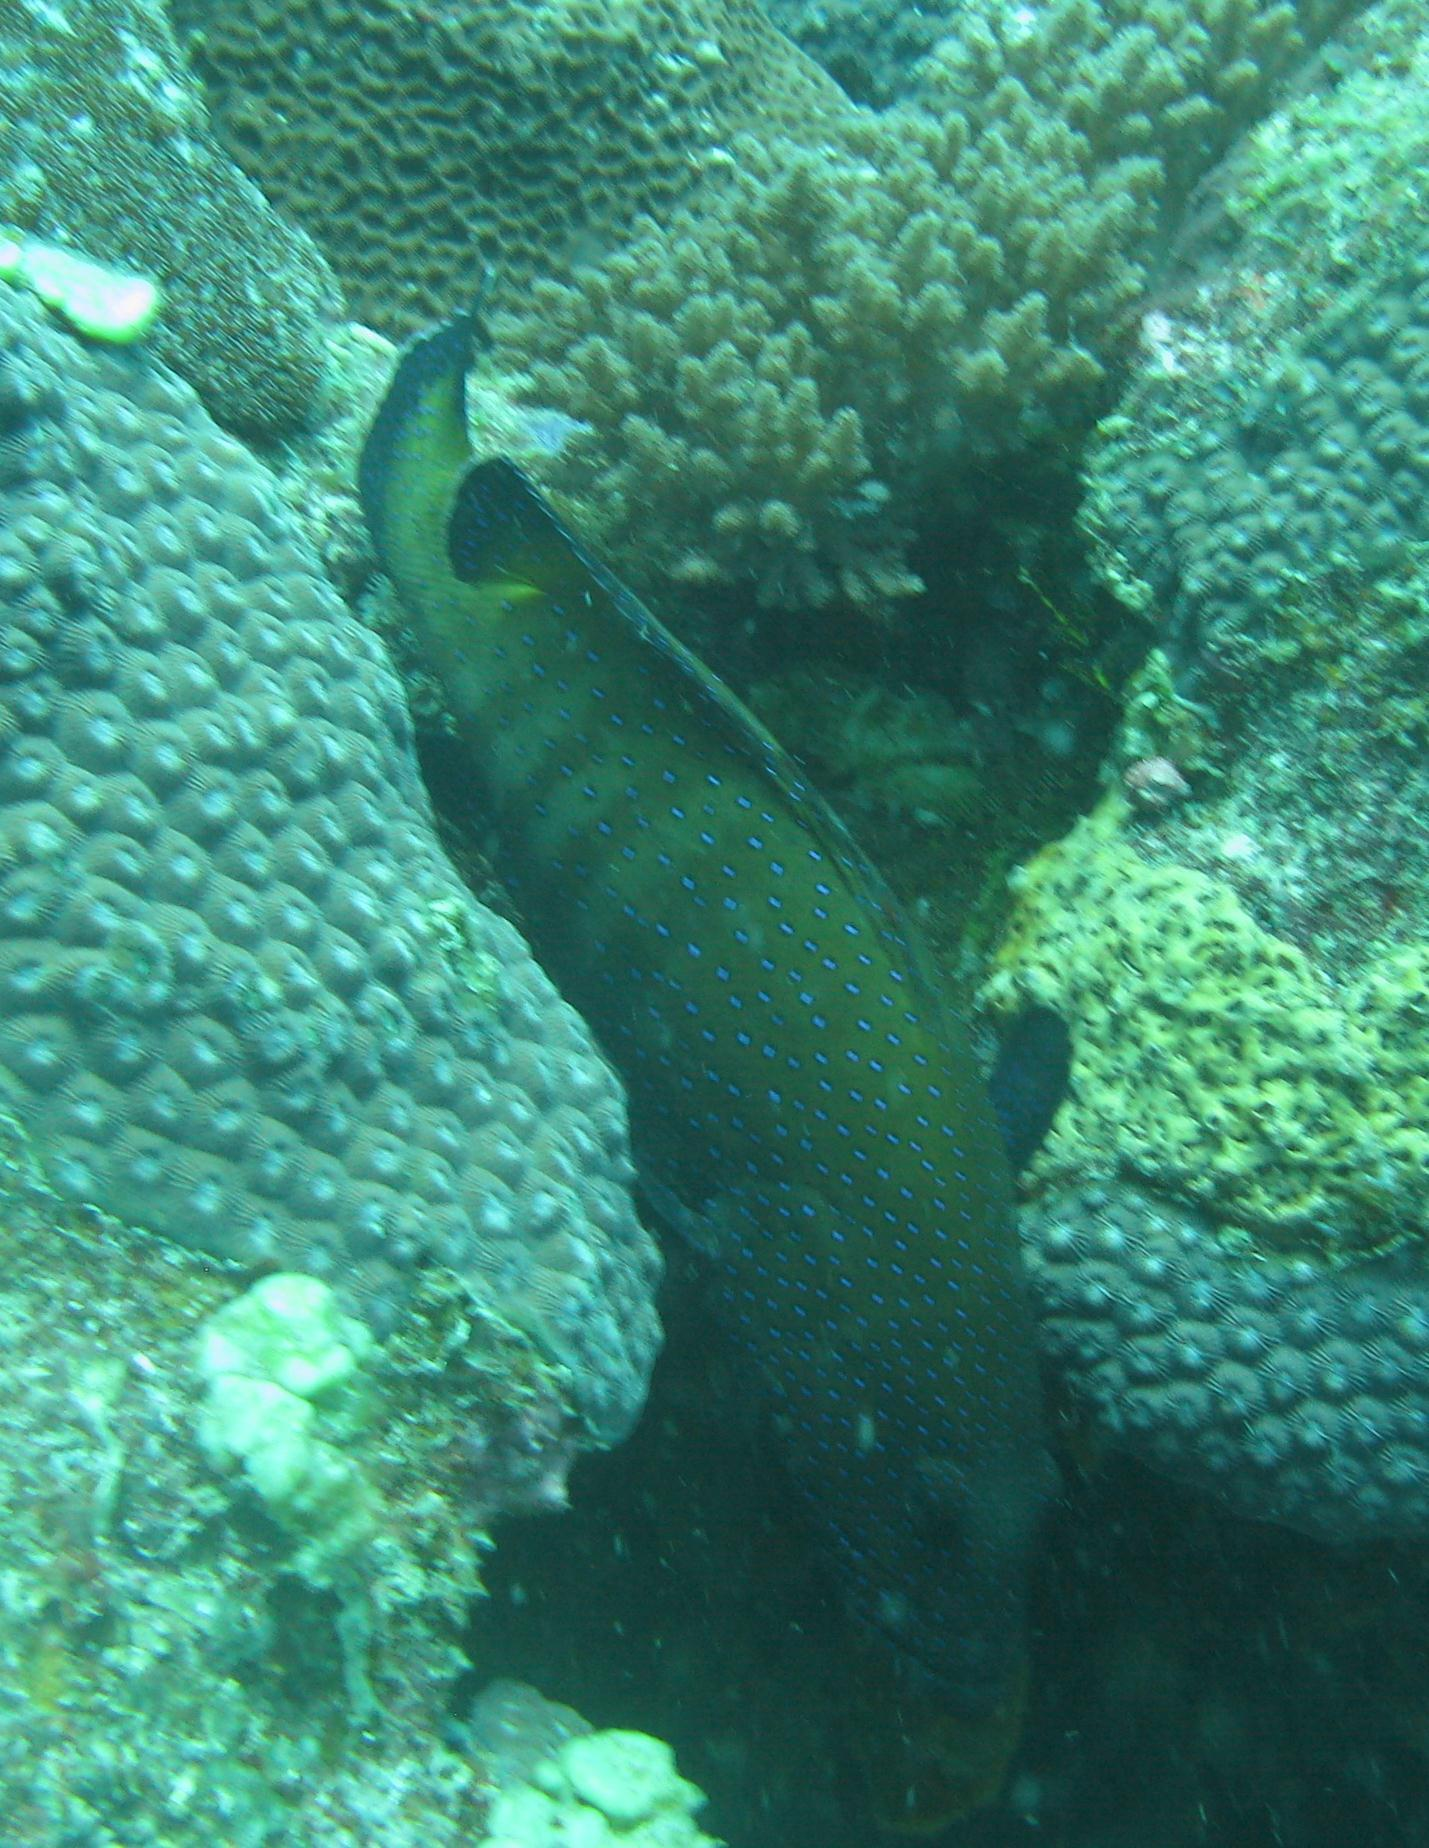Fish: (259, 270, 1179, 1848)
